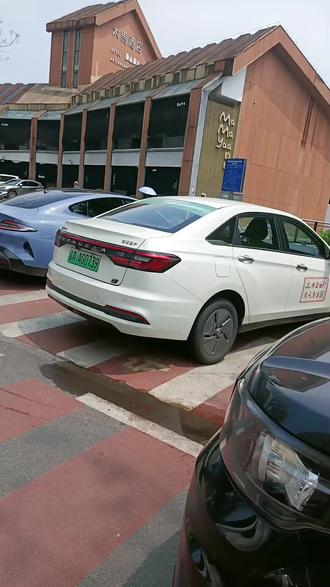other: (47, 197, 330, 348)
